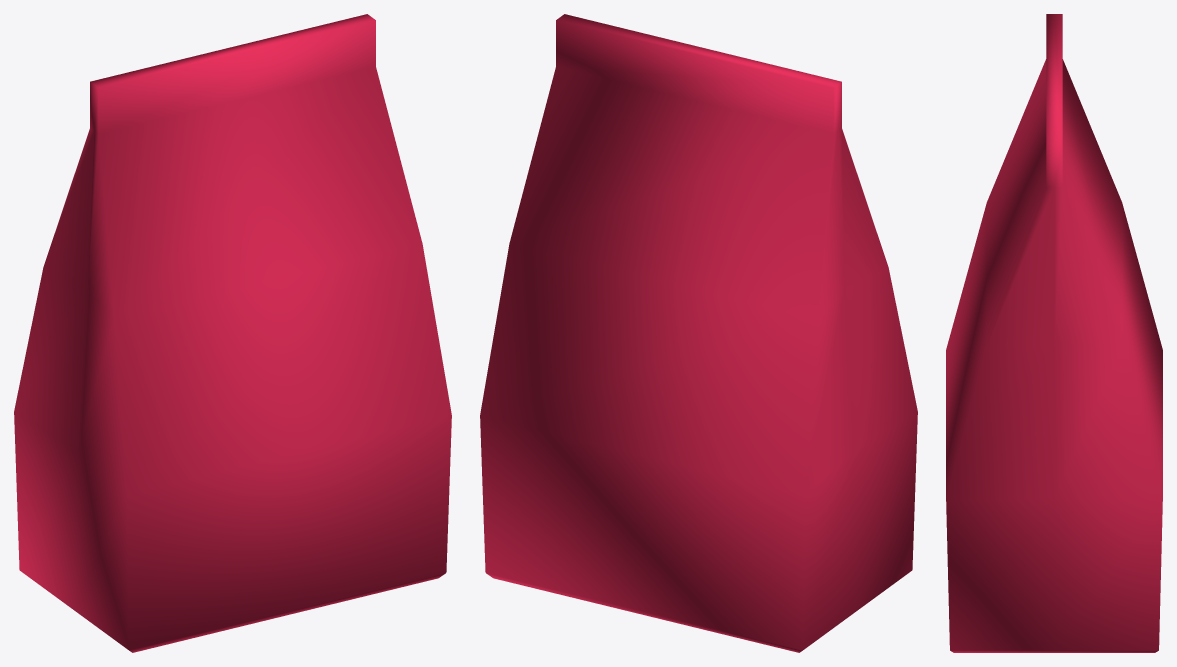
Rendered from biscogolosi_mini.fbx.
The picture shows the model from 3 angles, left to right: view 1: azimuth 30°, elevation 25°; view 2: azimuth 150°, elevation 25°; view 3: azimuth 270°, elevation 25°; orthographic projection. The views are drawn at different scales.
Parts seen in each view (by area): view 1: biscotti1_piccoli; view 2: biscotti1_piccoli; view 3: biscotti1_piccoli.
Boxes of the visible parts, x1,y1,x2,y2 form: biscotti1_piccoli: (14, 14, 451, 652); biscotti1_piccoli: (480, 14, 917, 652); biscotti1_piccoli: (946, 14, 1162, 652).
Size of the model in its own units: 239 by 371 by 145.
